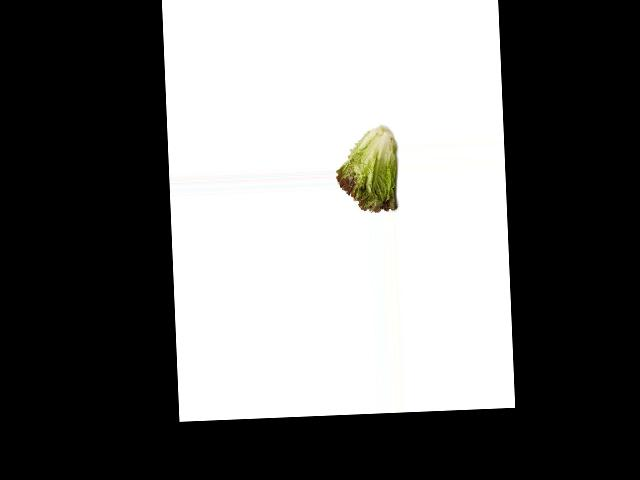lettuce: (335, 126, 398, 215)
